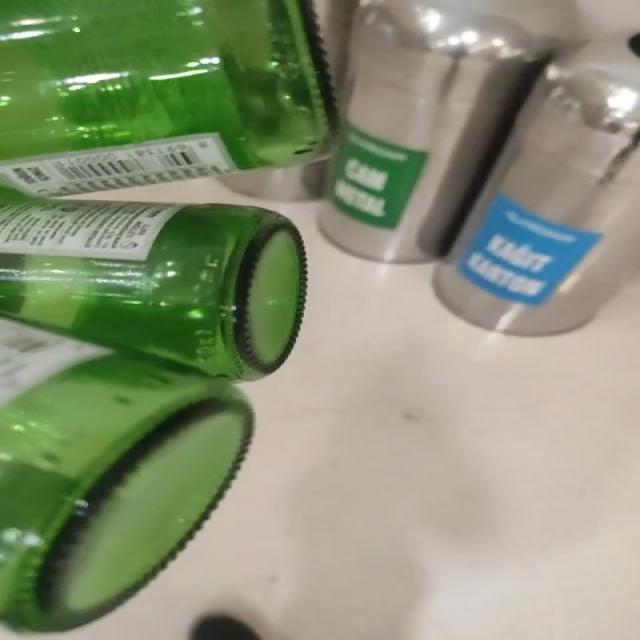Glass: (0, 0, 332, 632)
